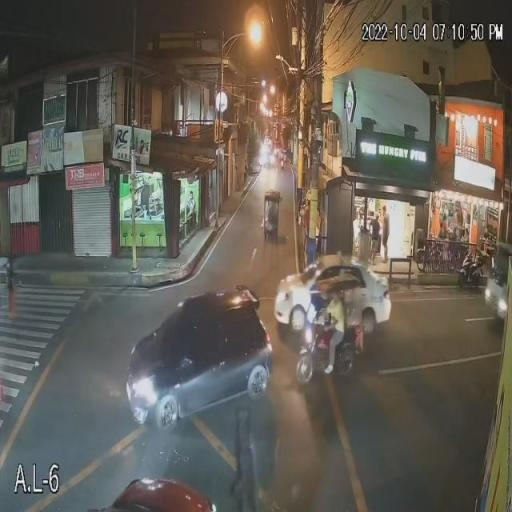motorcycle: (287, 324, 387, 389), (455, 252, 482, 292)
rider: (320, 290, 341, 376)
